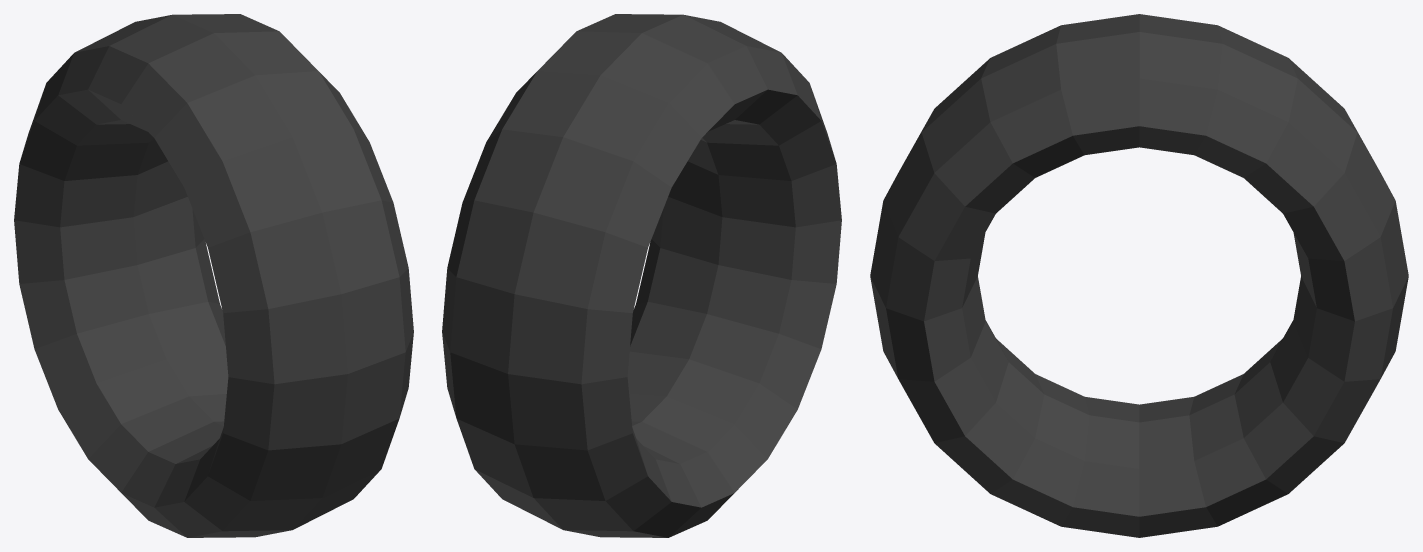
File: tire.obj
The picture shows the model from 3 angles, left to right: view 1: azimuth 30°, elevation 25°; view 2: azimuth 150°, elevation 25°; view 3: azimuth 270°, elevation 25°; orthographic projection.
Parts seen in each view (by area): view 1: Torus; view 2: Torus; view 3: Torus.
Boxes of the visible parts, box(x1,y1,x2,y2) form: Torus: box(14, 14, 413, 537); Torus: box(442, 14, 841, 537); Torus: box(870, 14, 1408, 537).
Size of the model in its own units: 0.9994 by 2.5 by 2.5.
